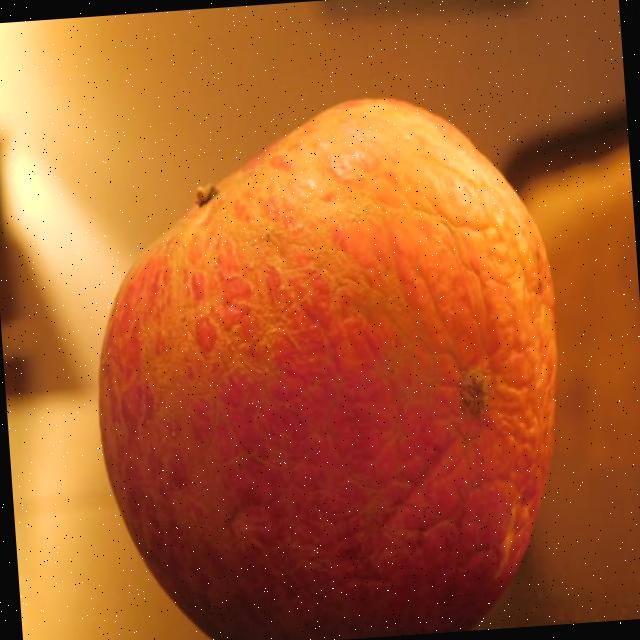overripe: (74, 77, 583, 640)
